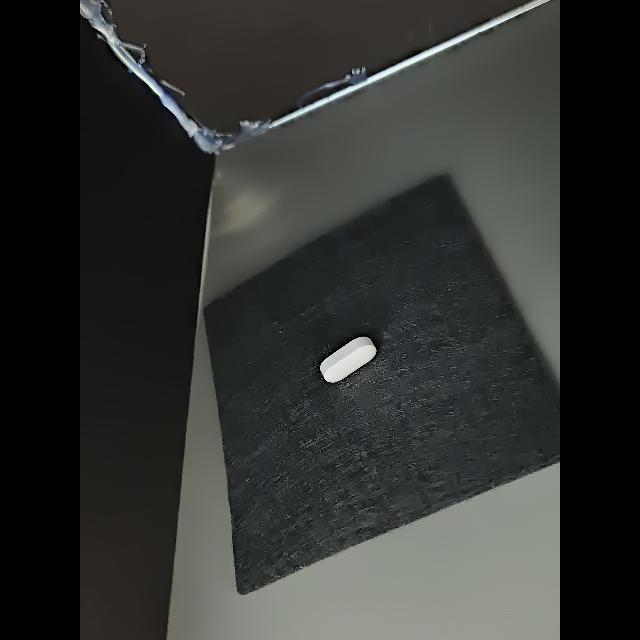Intact Pill: (320, 337, 376, 383)
